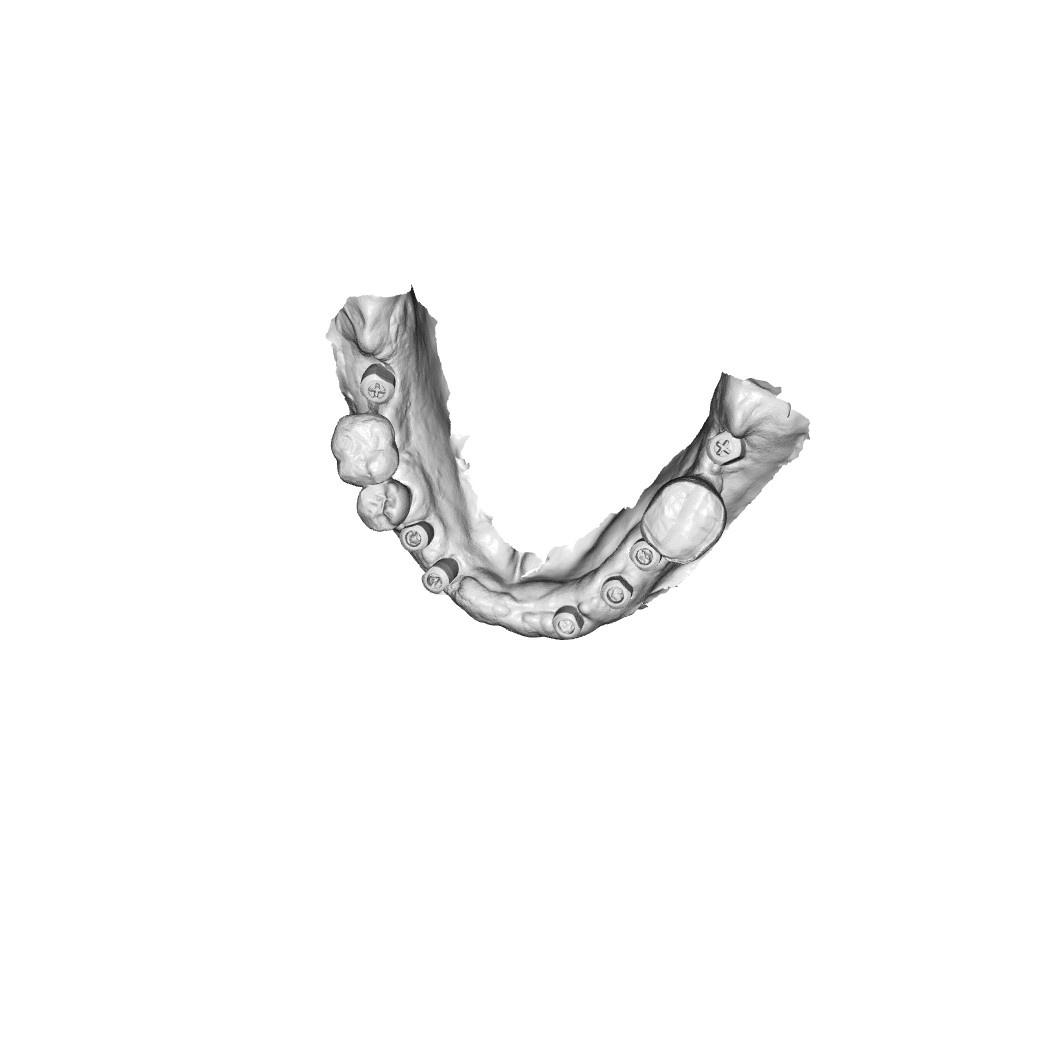implant: (551, 604, 592, 639), (424, 559, 456, 593), (401, 518, 432, 551), (603, 581, 633, 609), (628, 545, 658, 572)
implant_plus: (708, 431, 746, 470), (361, 366, 398, 405)
molar: (642, 479, 729, 563), (332, 411, 402, 487)
premolar: (357, 481, 409, 534)
